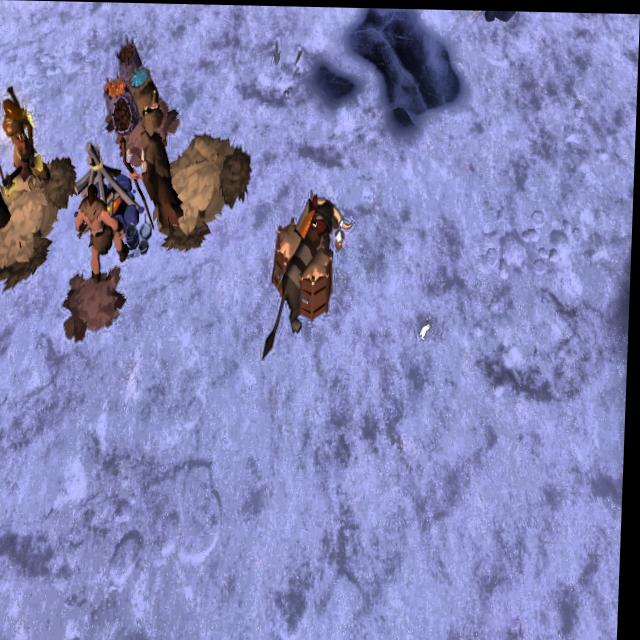enemy_factionKeeper: (139, 122, 185, 240), (78, 178, 128, 282), (0, 87, 53, 182)
